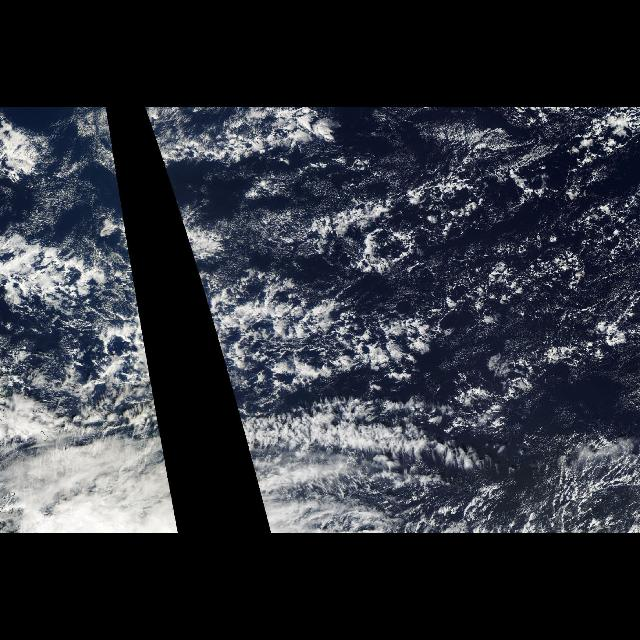Fish: (234, 398, 542, 494), (144, 108, 353, 164), (114, 398, 172, 494), (92, 108, 115, 164)
Gravel: (156, 138, 634, 422), (4, 138, 158, 422)
Sugar: (144, 108, 440, 236), (1, 108, 128, 236)
